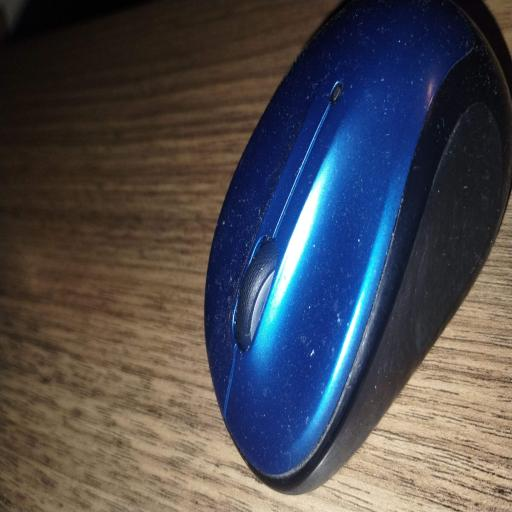mouse: (205, 0, 511, 493)
